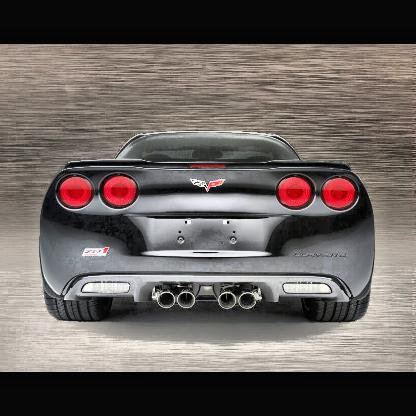Chevrolet Corvette ZR1 2012: (41, 128, 377, 325)
